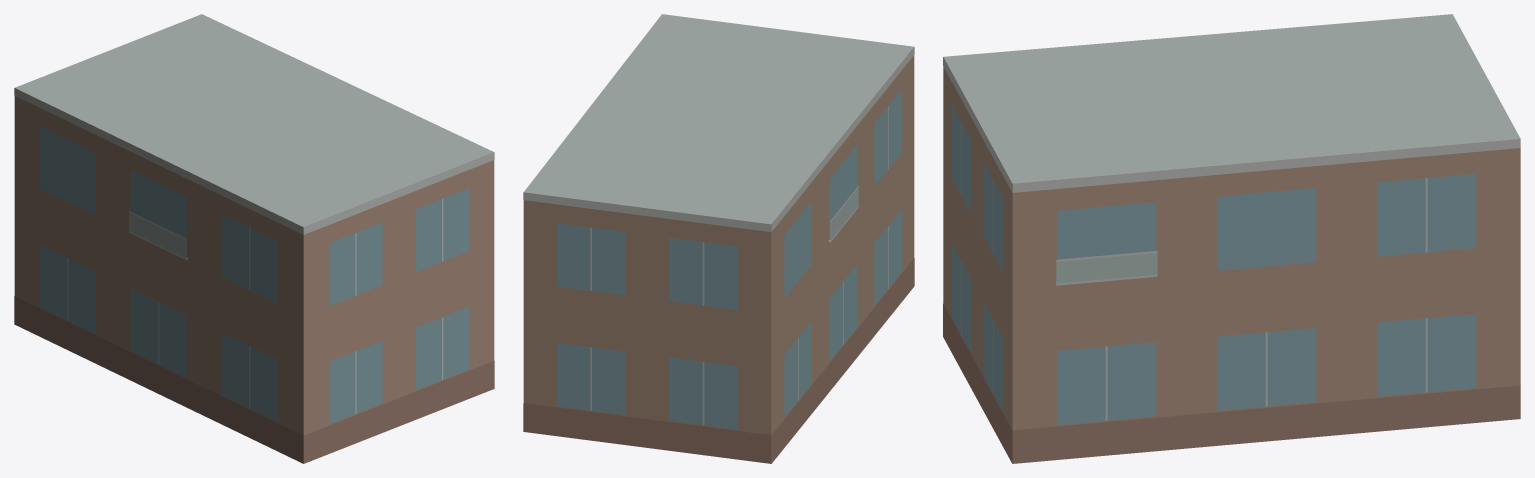
The model's file is survey-upis-32630093.glb.
The picture shows the model from 3 angles, left to right: view 1: azimuth 30°, elevation 25°; view 2: azimuth 150°, elevation 25°; view 3: azimuth 270°, elevation 25°; orthographic projection. The views are drawn at different scales.
Parts seen in each view (by area): view 1: survey-upis-32630093.tmp; view 2: survey-upis-32630093.tmp; view 3: survey-upis-32630093.tmp.
Boxes of the visible parts, bbox=[...] form: survey-upis-32630093.tmp: bbox=[14, 14, 494, 463]; survey-upis-32630093.tmp: bbox=[523, 14, 914, 463]; survey-upis-32630093.tmp: bbox=[943, 14, 1520, 463].
Bounding box in the file's own units: 9.77 × 7.5 × 14.03.
